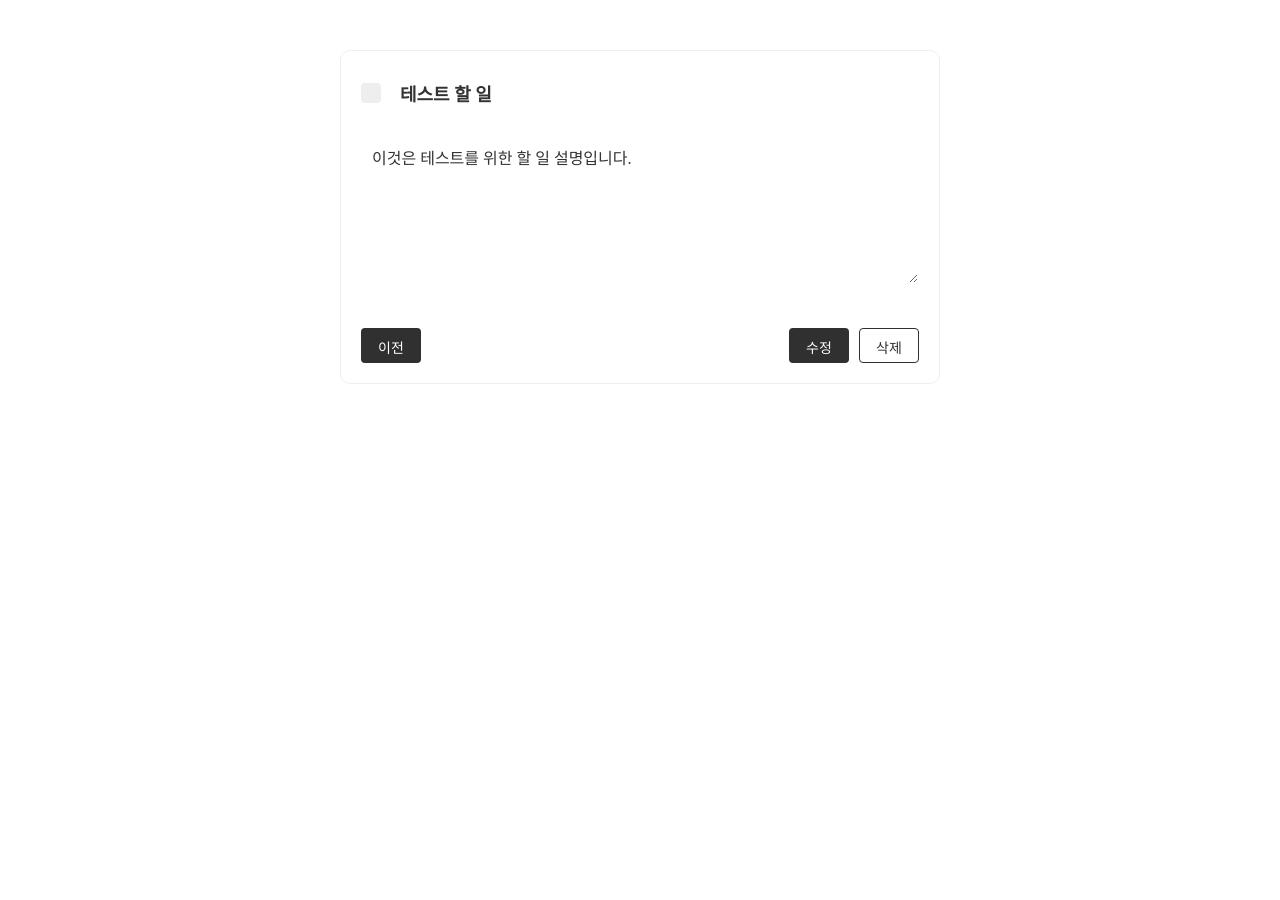
Scenario: TodoDetail 컴포넌트 › 삭제 버튼 클릭 시 확인 대화상자가 표시된다
Click the button "삭제" at (889, 346), box x1=859 y1=328 x2=919 y2=363
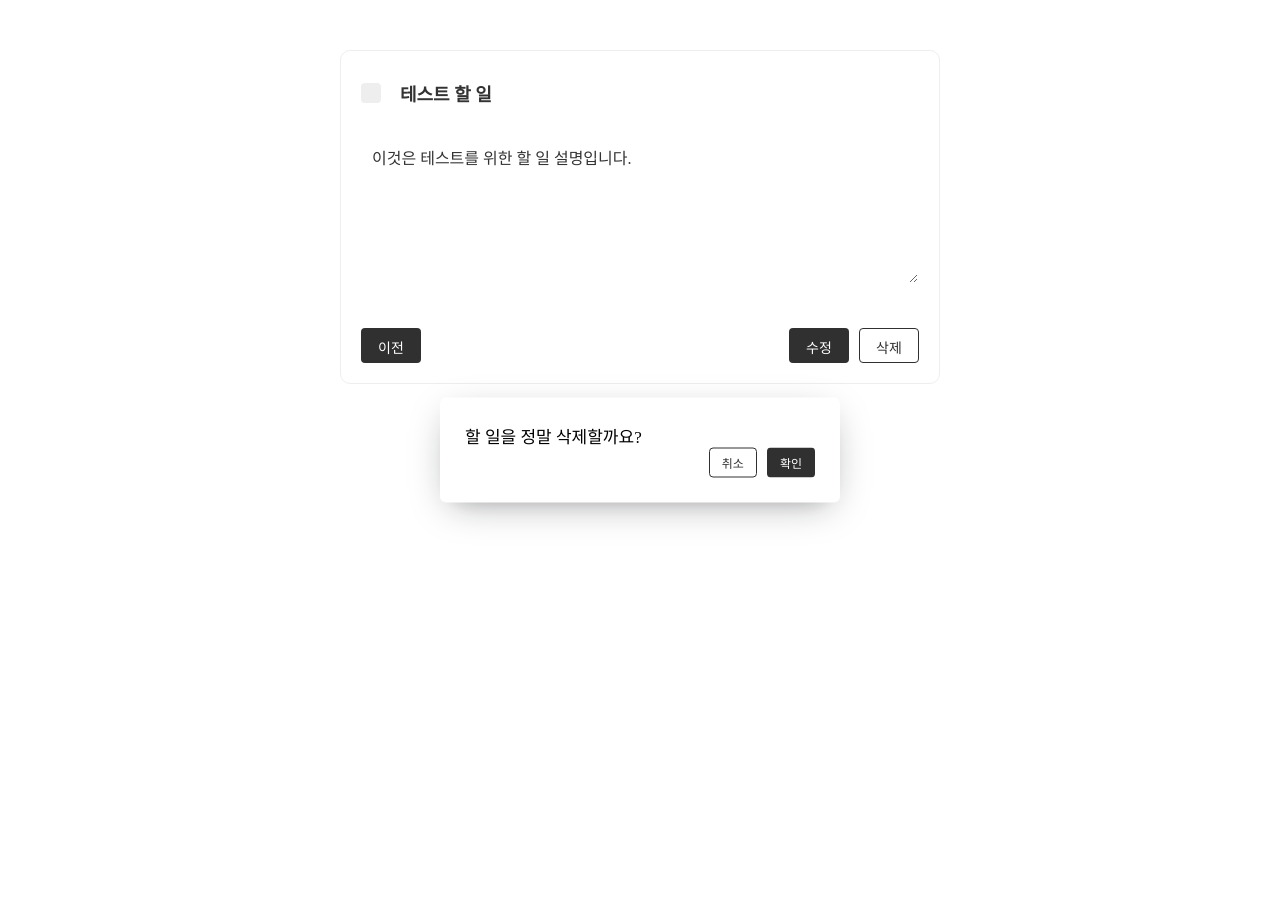
Expected: the heading "할 일을 정말 삭제할까요?" is shown, x1=465 y1=428 x2=642 y2=446
